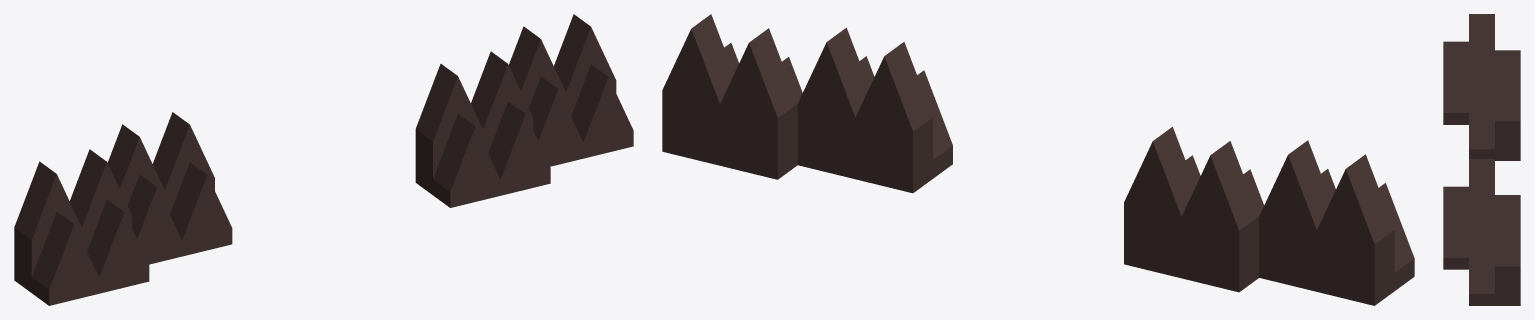
Rendered from doorway_destroyed.fbx.
3 renders of one model, left to right at view 1: azimuth 30°, elevation 25°; view 2: azimuth 150°, elevation 25°; view 3: azimuth 270°, elevation 25°, orthographic. The views are drawn at different scales.
Parts seen in each view (by area): view 1: Doorway.Destroyed; view 2: Doorway.Destroyed; view 3: Doorway.Destroyed.
Part boxes in pixels (bbox=[...]): Doorway.Destroyed: bbox=[14, 14, 633, 305]; Doorway.Destroyed: bbox=[662, 14, 1414, 305]; Doorway.Destroyed: bbox=[1443, 14, 1520, 305].
Size of the model in its own units: 400 by 71.86 by 60.
